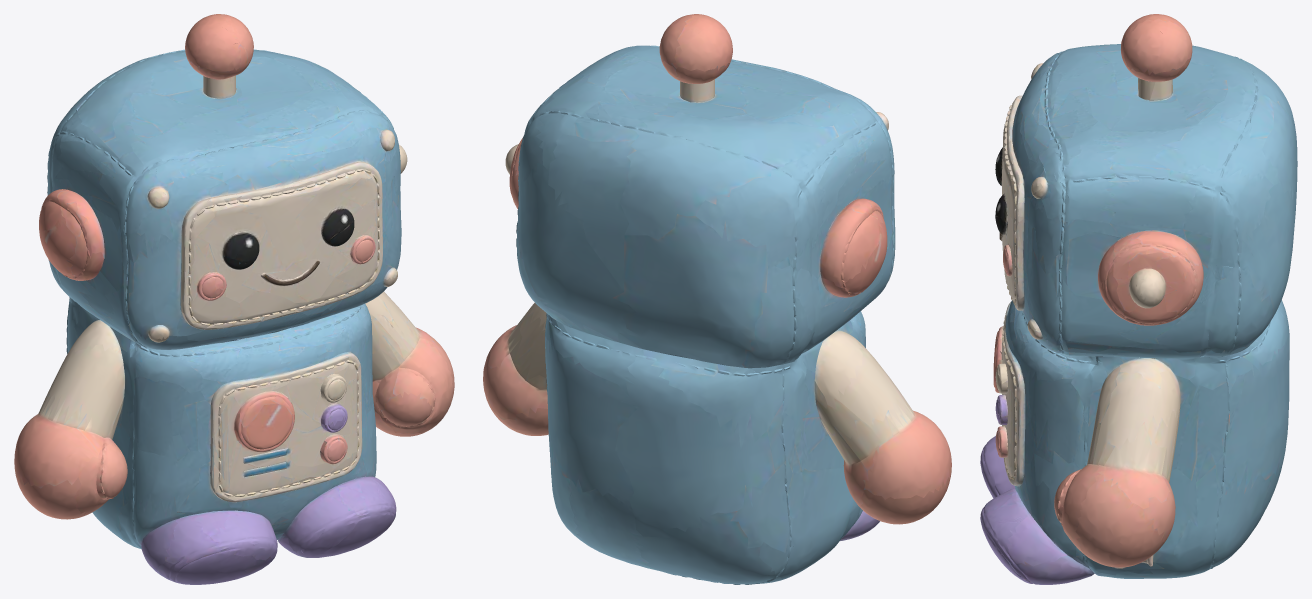
Rendered from robot.gen.glb.
3 views of the same model, side by side, from view 1: azimuth 30°, elevation 25°; view 2: azimuth 150°, elevation 25°; view 3: azimuth 270°, elevation 25° (orthographic). The views are drawn at different scales.
Visible parts, largest first — view 1: LOD0; view 2: LOD0; view 3: LOD0.
Part boxes in pixels (x1,y1,x2,y2): LOD0: (14,14,454,584); LOD0: (483,14,951,584); LOD0: (980,14,1297,584).
Size of what is drawn, in the model's own units: 0.1905 by 0.2149 by 0.1182.
Materials: 1 (1 with a texture image).
